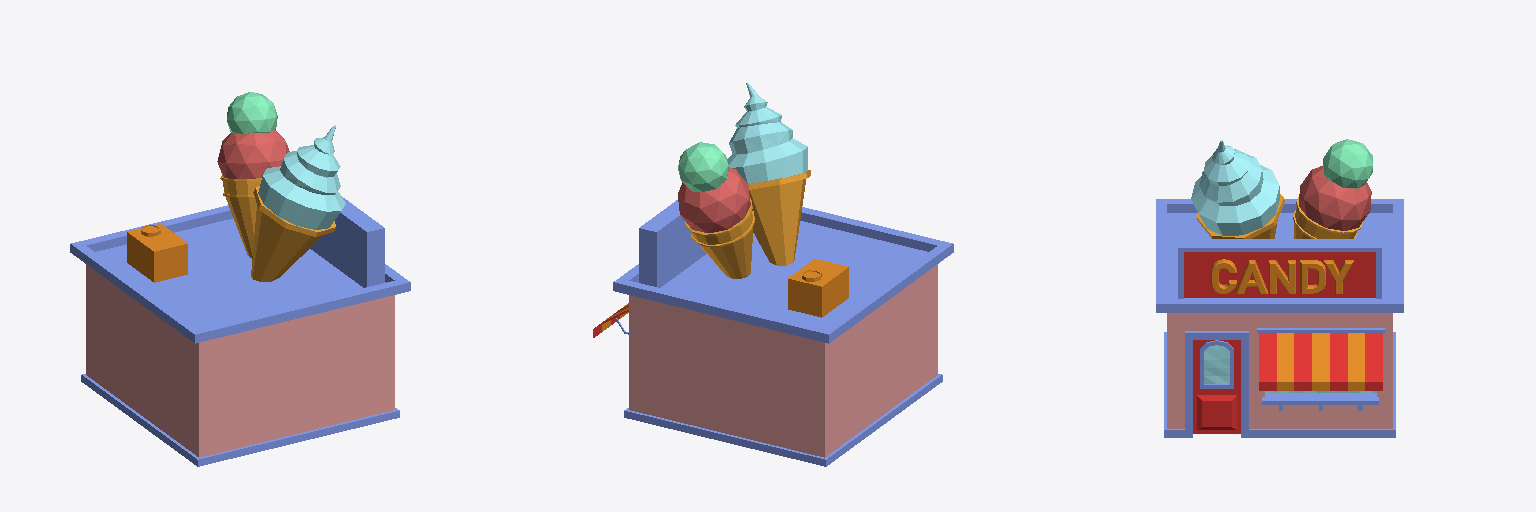
File: candy_shop.obj
3 views of the same model, side by side, from view 1: azimuth 30°, elevation 25°; view 2: azimuth 150°, elevation 25°; view 3: azimuth 270°, elevation 25° (orthographic).
Visible parts, largest first — view 1: Candy_shop:Mesh; view 2: Candy_shop:Mesh; view 3: Candy_shop:Mesh.
Part boxes in pixels (x1,y1,x2,y2): Candy_shop:Mesh: (70, 92, 410, 466); Candy_shop:Mesh: (593, 83, 953, 466); Candy_shop:Mesh: (1156, 139, 1403, 437).
Bounding box in the file's own units: 25.05 × 27.16 × 21.9.